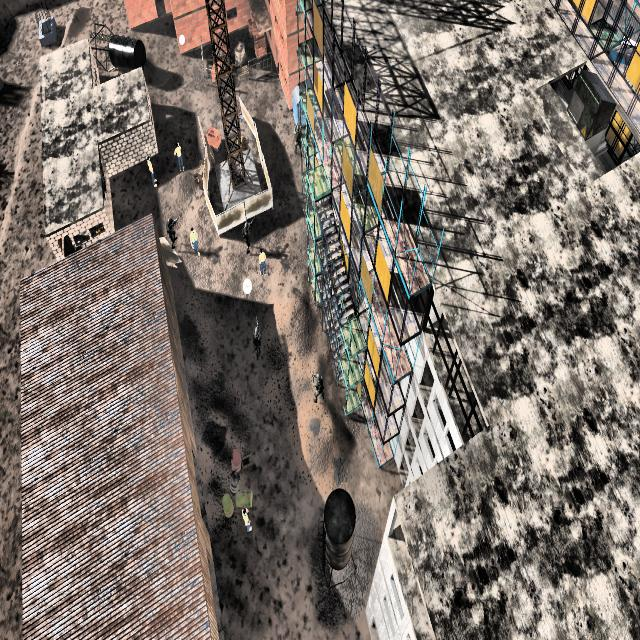bad: (248, 315, 267, 365), (308, 361, 328, 405), (162, 211, 180, 250), (292, 120, 307, 156)
good: (142, 152, 160, 190), (238, 496, 253, 537), (187, 224, 201, 263), (171, 138, 184, 175), (256, 243, 268, 278)
